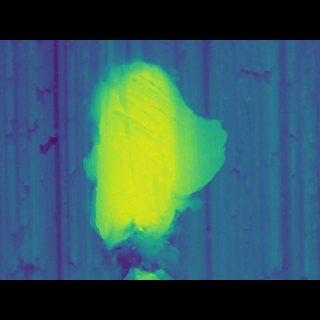Loch: (82, 83, 228, 226)
